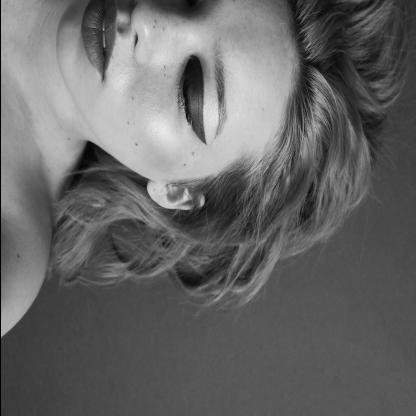Eye: (173, 53, 209, 142)
Mouth: (78, 1, 122, 85)
Nose: (128, 0, 190, 66)
